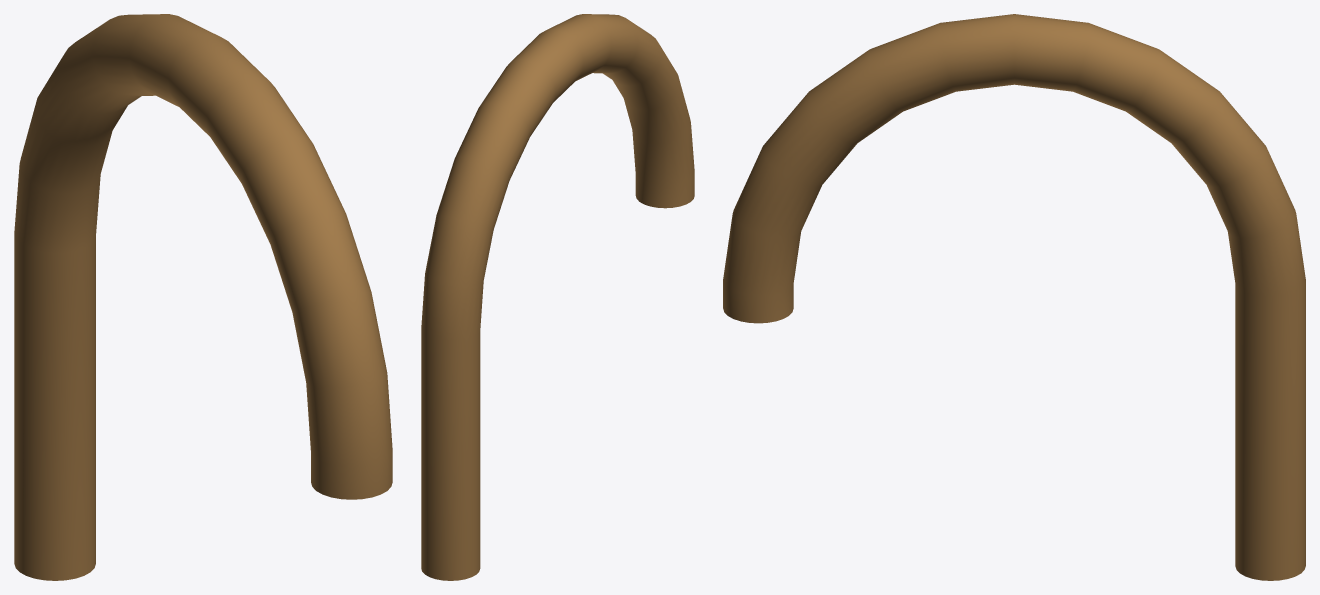
File: original-3.obj
The picture shows the model from 3 angles, left to right: view 1: azimuth 30°, elevation 25°; view 2: azimuth 150°, elevation 25°; view 3: azimuth 270°, elevation 25°; orthographic projection. The views are drawn at different scales.
Visible parts, largest first — view 1: Group4/mesh7/mesh7-geometry#mesh7-geometry; view 2: Group4/mesh7/mesh7-geometry#mesh7-geometry; view 3: Group4/mesh7/mesh7-geometry#mesh7-geometry.
Boxes of the visible parts, left/top/right/bottom form: Group4/mesh7/mesh7-geometry#mesh7-geometry: left=14, top=14, right=392, bottom=580; Group4/mesh7/mesh7-geometry#mesh7-geometry: left=421, top=14, right=694, bottom=580; Group4/mesh7/mesh7-geometry#mesh7-geometry: left=723, top=14, right=1305, bottom=580.
Size of the model in its own units: 0.1293 by 1.11 by 1.07.
